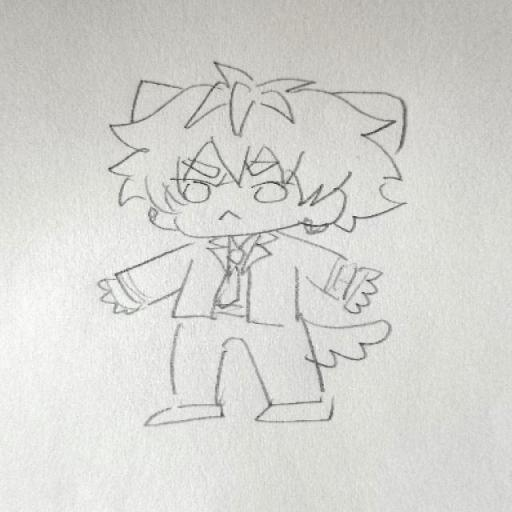person: (84, 50, 415, 450)
